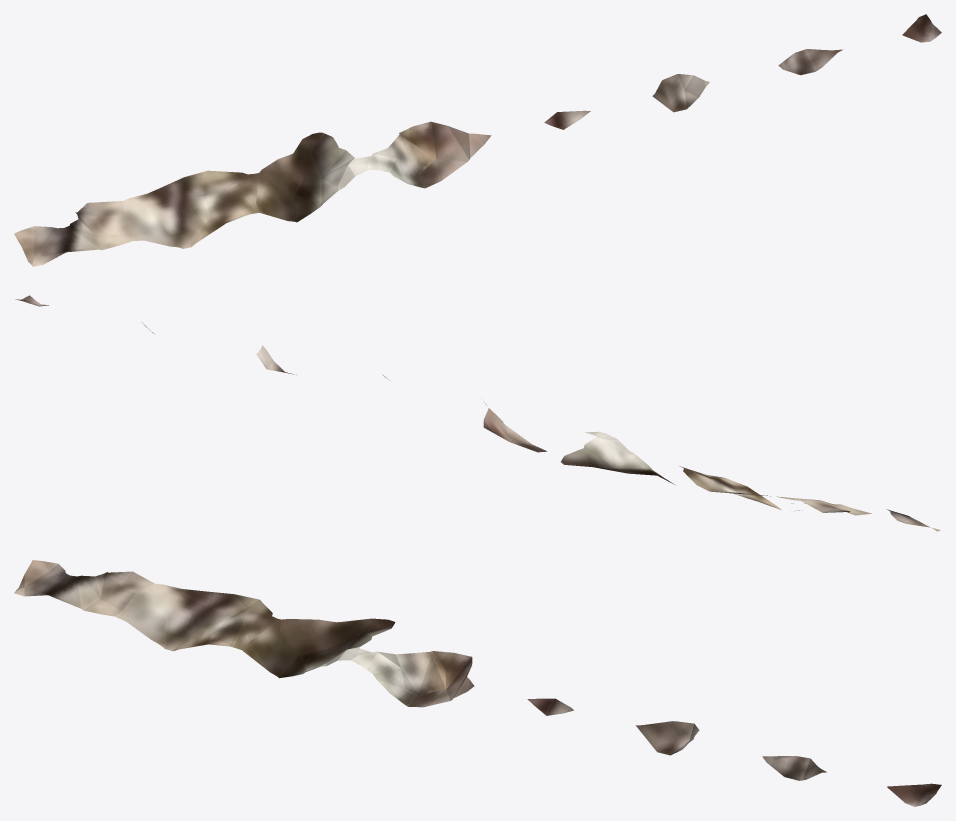
3 views of the same model, one above another, from view 1: azimuth 30°, elevation 25°; view 2: azimuth 150°, elevation 25°; view 3: azimuth 330°, elevation 25° (orthographic).
Bounding box in the file's own units: 1.67 × 0.0697 × 0.1478.
Materials: 1 (1 with a texture image).
